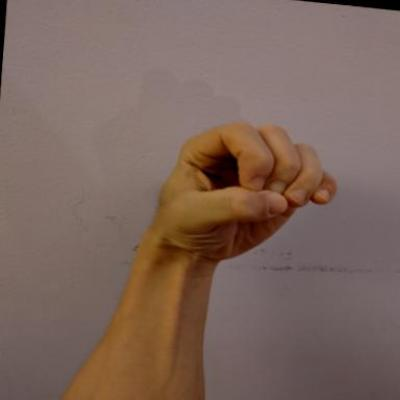hand: (147, 110, 346, 275)
